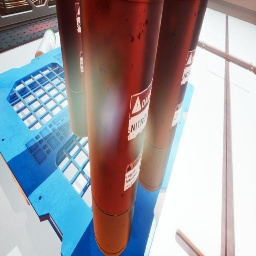0: (35, 29, 56, 58)
NitrogenTank ,: (79, 0, 164, 256), (138, 0, 208, 192), (55, 0, 88, 138)
